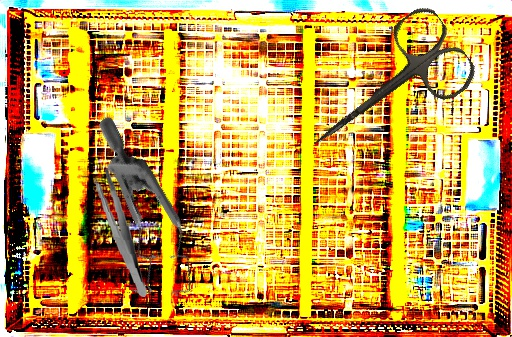Dressing Forceps: (94, 166, 148, 300)
Iris Scissors: (285, 1, 483, 180)
Speculum: (30, 114, 245, 320)
